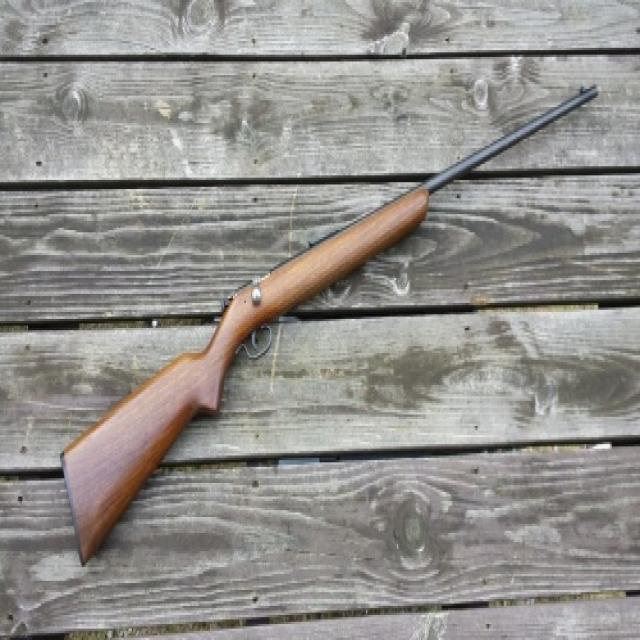weapon: (52, 70, 601, 574)
